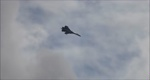maybay_muctieu: (60, 25, 80, 38)
